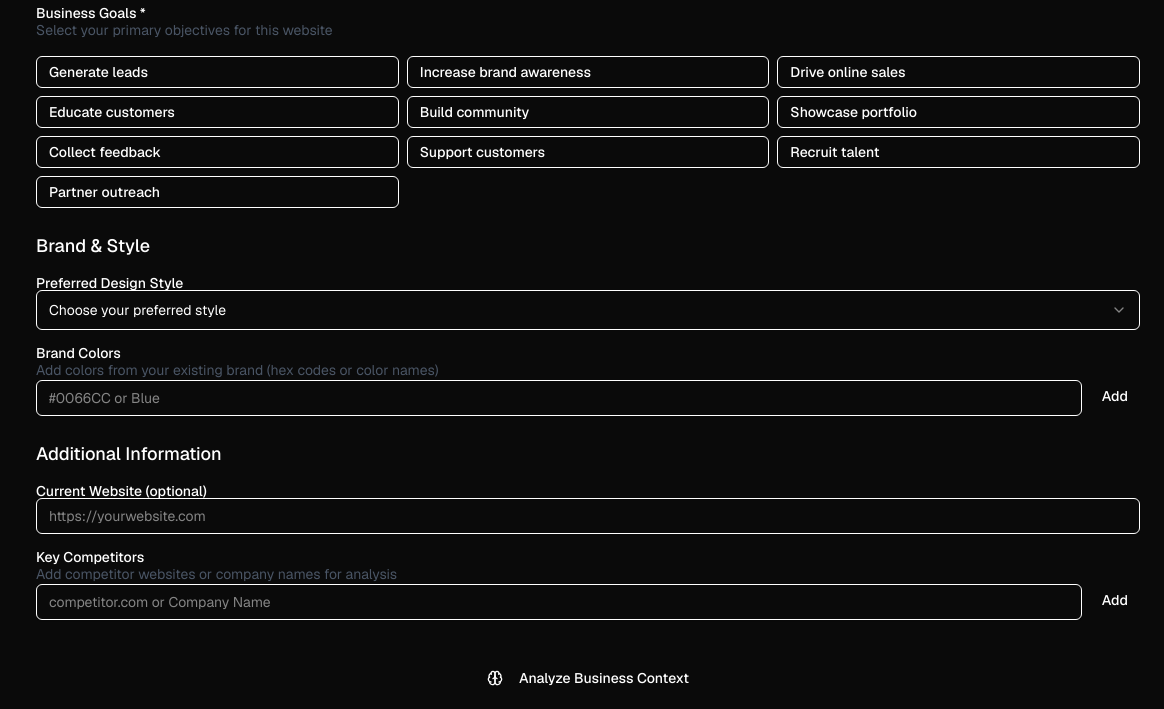
Test: BusinessContextAnalyzer › Form Validation › clears validation errors when user corrects input
(page scrolled)
Click the button "Analyze Business Context" at (588, 678), box [475,660,701,696]
(page scrolled)
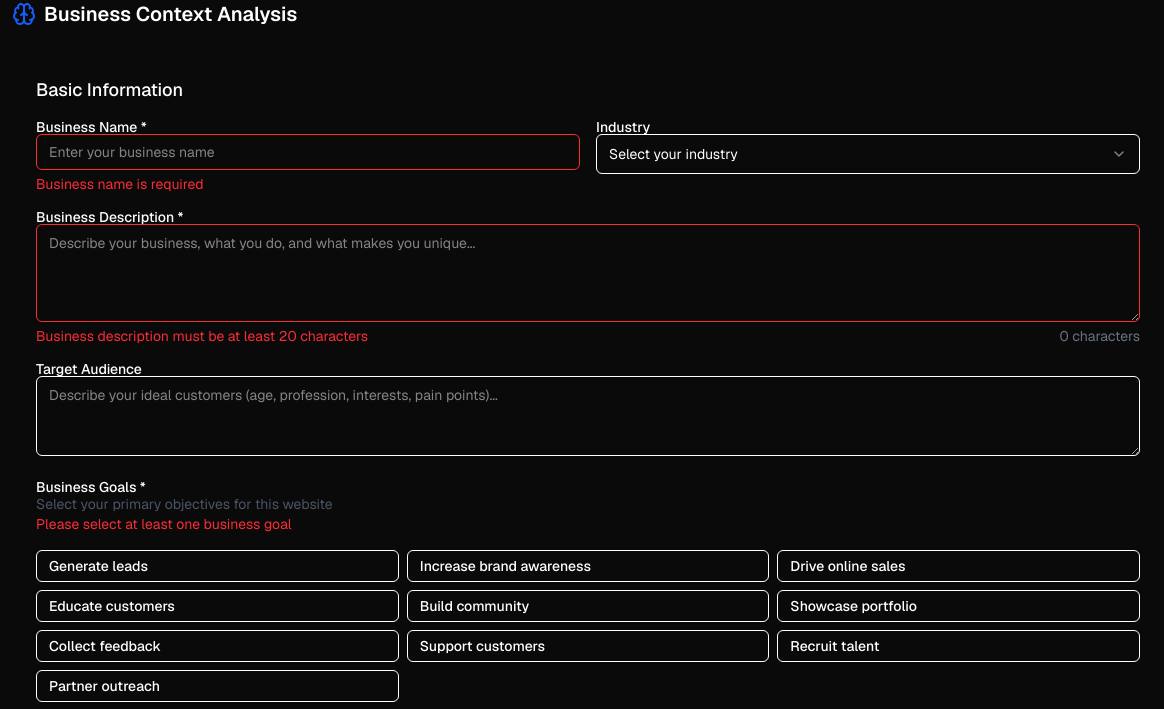
Now the text "Business name is required" is shown, box [36,175,204,193]
Type "Test Company" into the field labelled "Business Name *" at (308, 152), box [36,134,580,170]
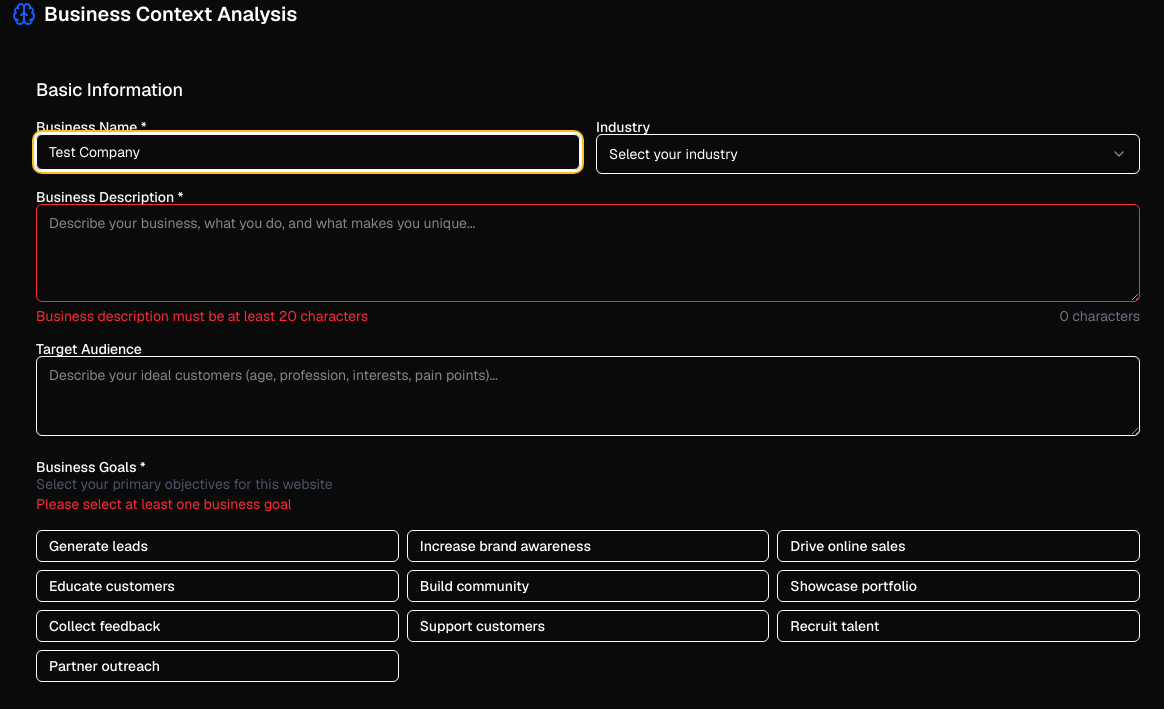
Now the text "Business name is required" is gone
